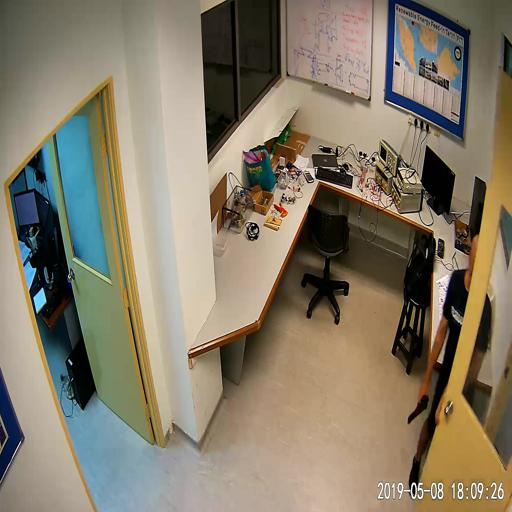pistol: (407, 387, 429, 424)
